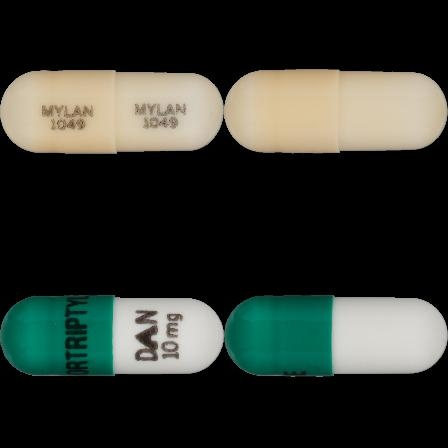35356-650: (0, 0, 224, 224)
